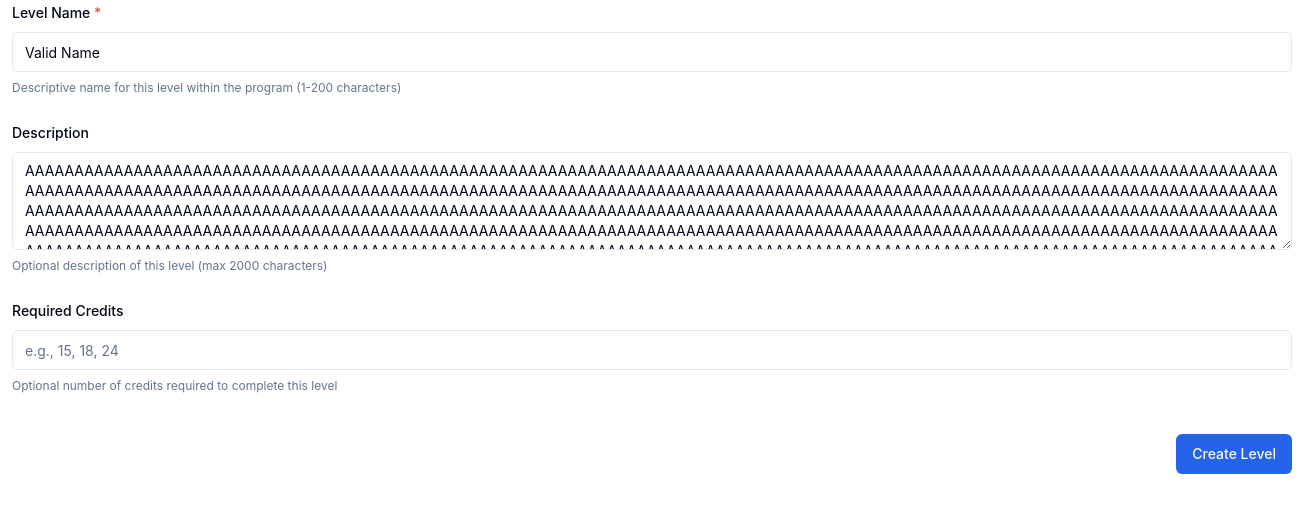
it: ProgramLevelForm › Form Validation › should validate description max length (2000 characters)
The width and height of the screenshot is (1304, 523).
Step 1. Click the button "Create Level" → click(1234, 454), box [1176, 434, 1292, 474]
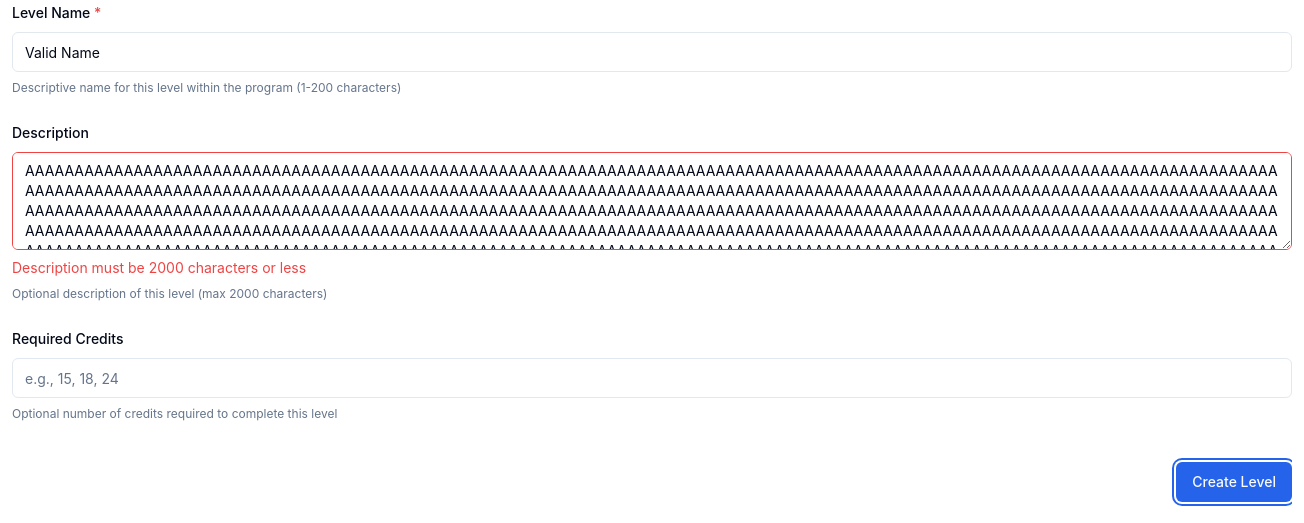
Check: the text "Description must be 2000 characters or less" is shown, box [12, 259, 306, 276]
